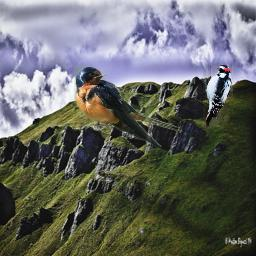Swallow: (74, 65, 182, 147)
Woodpecker: (202, 65, 233, 127)
